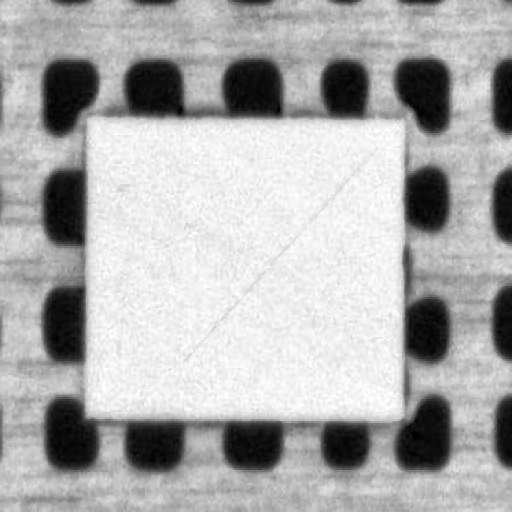DIE_CRACK: (244, 110, 498, 269)
